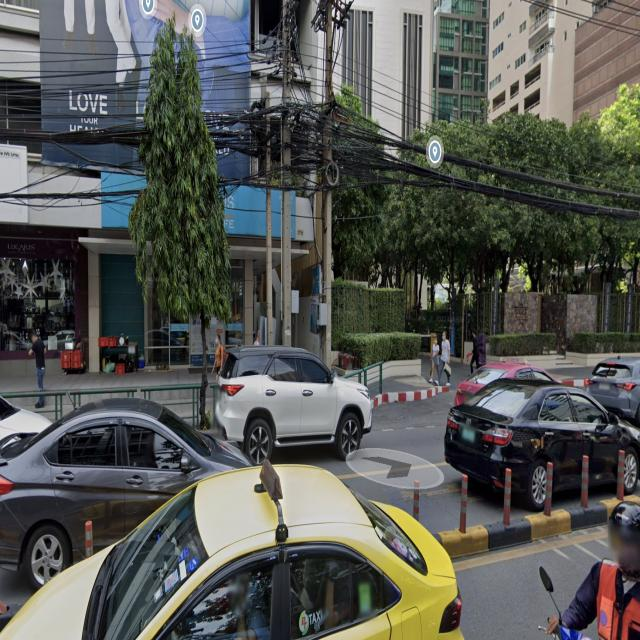tree: (138, 13, 248, 431), (319, 91, 389, 281), (554, 130, 635, 287), (434, 123, 480, 358), (478, 130, 523, 356), (394, 132, 432, 363), (522, 125, 552, 293)
